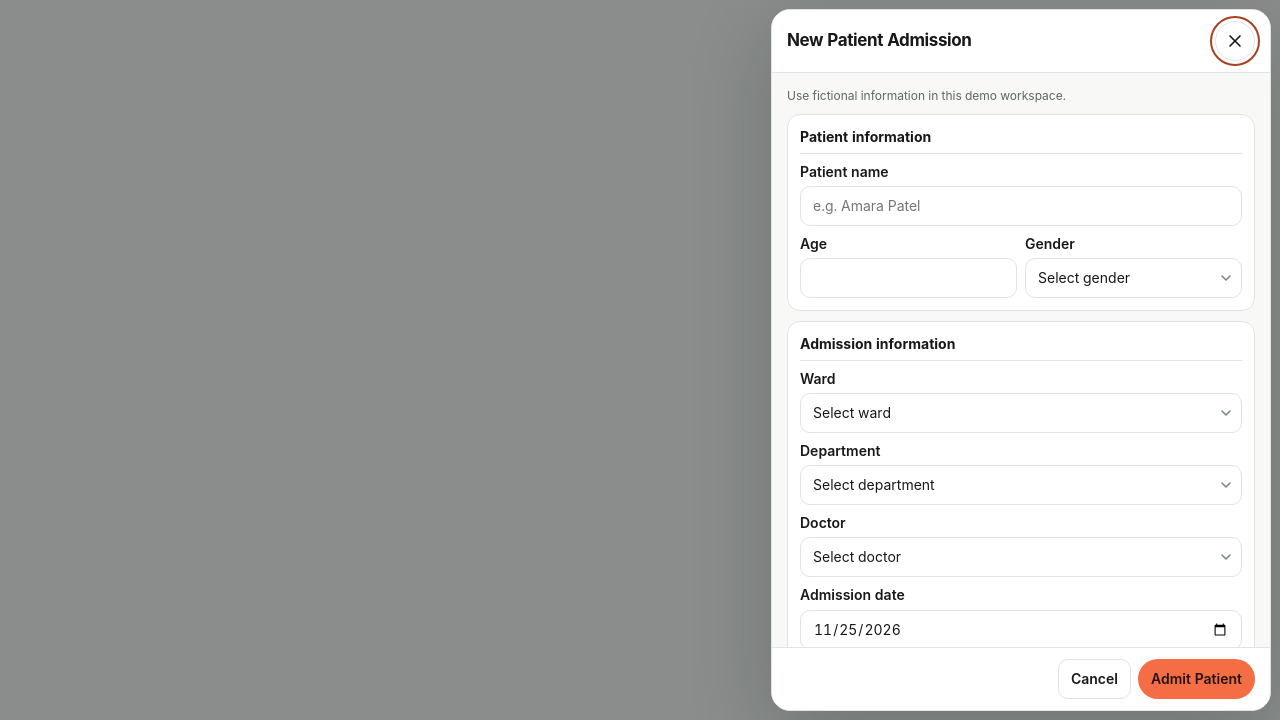
Test: renders the admission drawer and marks empty fields on submission
Click the button "Admit Patient".
click(1196, 679)  # box [1138,659,1255,699]
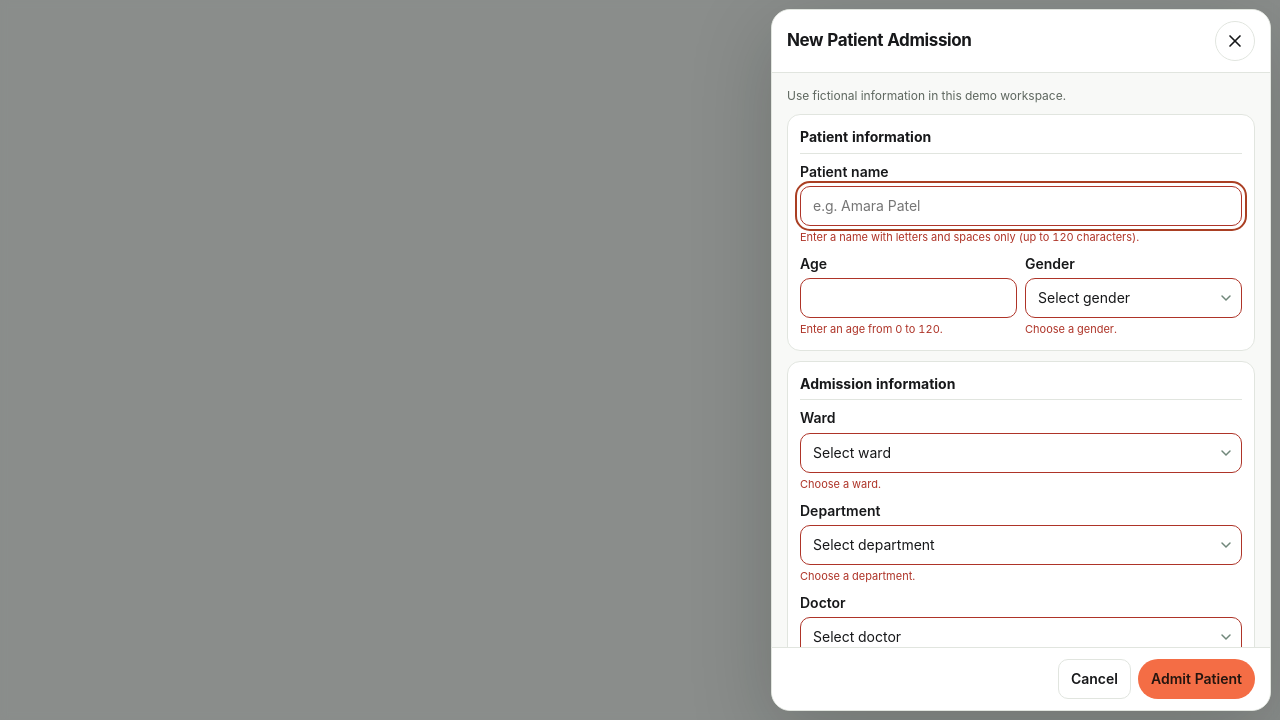
Now the text "Choose a ward." is shown, box [800,477,881,491]
